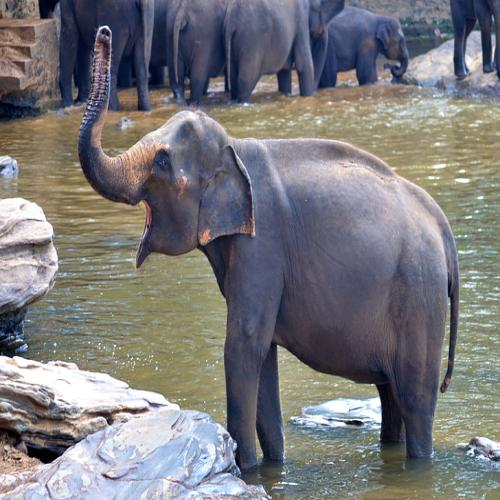asian_elephant-endangered: (85, 31, 452, 459), (59, 0, 153, 106), (215, 0, 318, 87), (318, 8, 410, 81), (159, 0, 229, 92), (451, 0, 498, 75)
